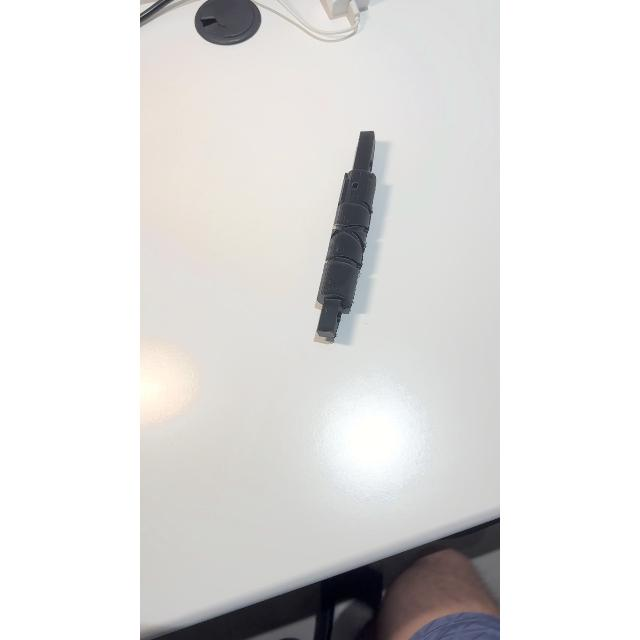Pieza_1: (306, 110, 388, 362)
